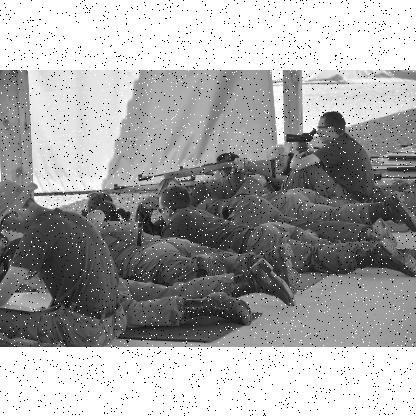gun: (138, 154, 274, 176)
